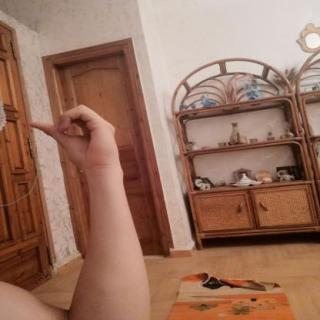WAW: (21, 99, 127, 178)
